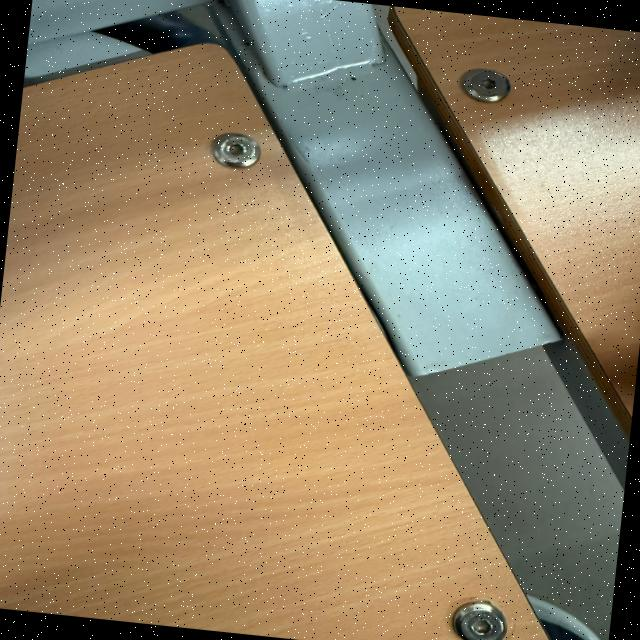Hex Socket Allen: (202, 127, 266, 171), (445, 601, 514, 640), (457, 62, 516, 102)
